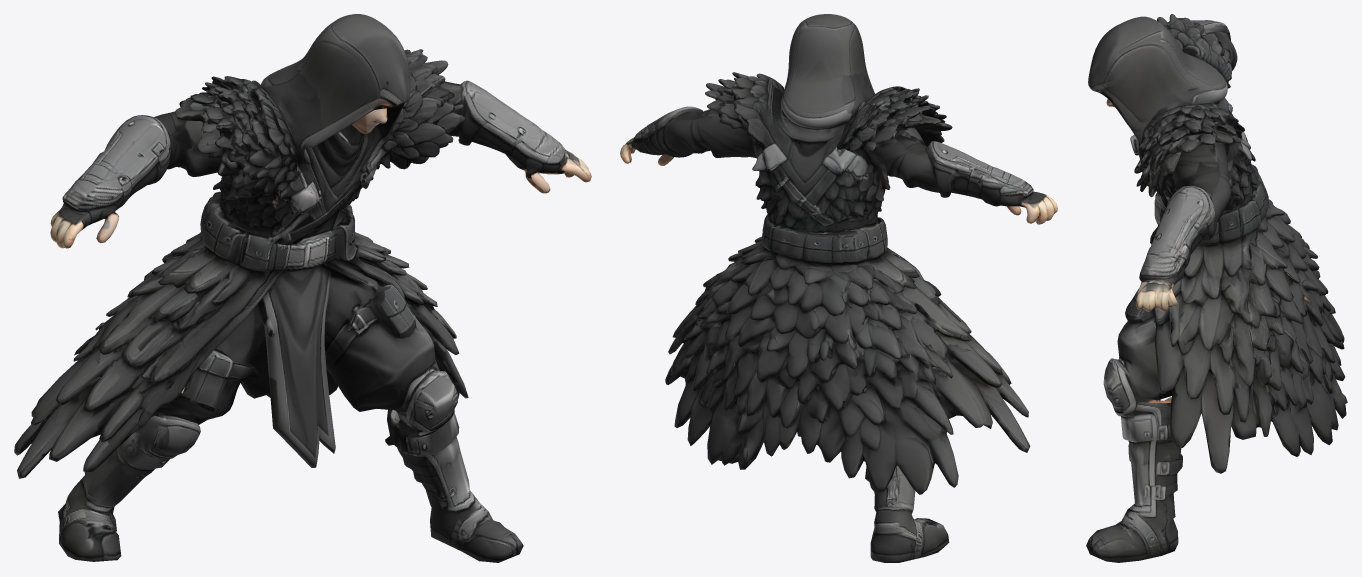
The model's file is assasine_legacy.glb.
3 renders of one model, left to right at view 1: azimuth 30°, elevation 25°; view 2: azimuth 150°, elevation 25°; view 3: azimuth 270°, elevation 25°, orthographic. The views are drawn at different scales.
Visible parts, largest first — view 1: Assassin Character; view 2: Assassin Character; view 3: Assassin Character.
Part boxes in pixels (<box>): Assassin Character: <box>14,14,591,562</box>; Assassin Character: <box>620,14,1057,562</box>; Assassin Character: <box>1086,14,1347,562</box>.
Size of the model in its own units: 1.75 by 1.75 by 0.8627.
Materials: 1 (1 with a texture image).
